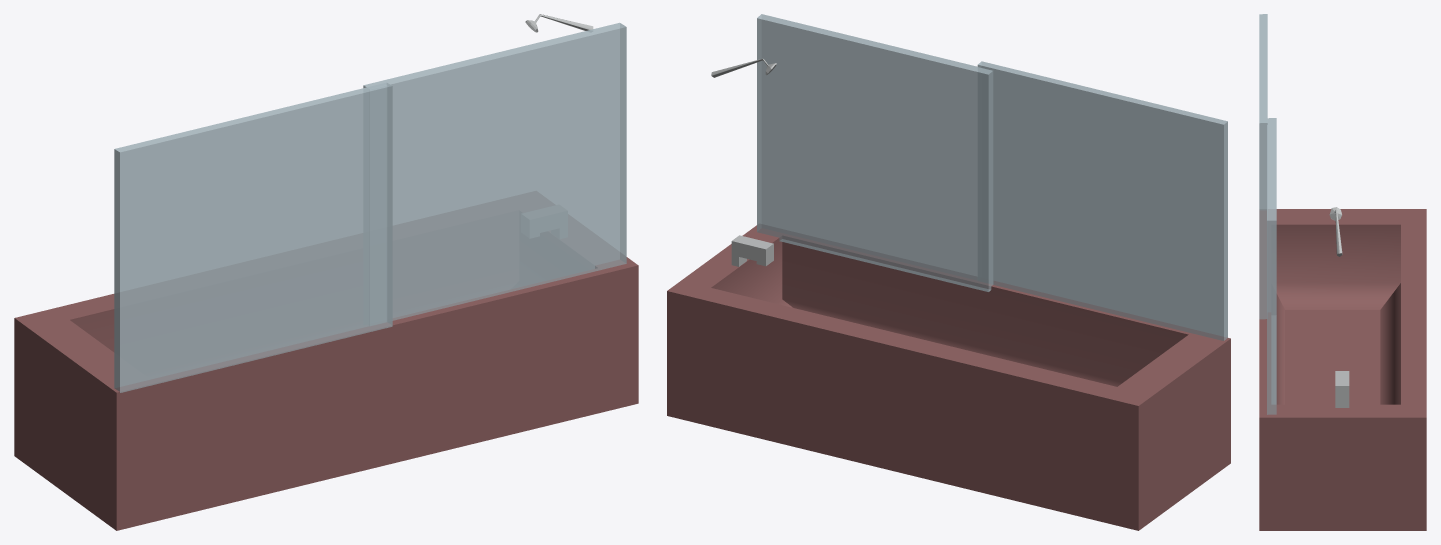
Rendered from ShowerTubColor2.fbx.
3 renders of one model, left to right at view 1: azimuth 30°, elevation 25°; view 2: azimuth 150°, elevation 25°; view 3: azimuth 270°, elevation 25°, orthographic. The views are drawn at different scales.
Parts seen in each view (by area): view 1: pCube27, pCube29, pasted__pCube29; view 2: pCube27, pCube29, pasted__pCube29, pCube30; view 3: pCube27, pasted__pCube29, pCube29, pCube30, pCube31.
Part boxes in pixels (<box>): pCube27: <box>14,257,638,530</box>; pCube29: <box>114,82,392,392</box>; pasted__pCube29: <box>363,22,626,325</box>; pCube27: <box>667,225,1230,530</box>; pCube29: <box>977,61,1227,340</box>; pasted__pCube29: <box>757,14,993,291</box>; pCube30: <box>731,235,773,266</box>; pCube27: <box>1259,209,1426,530</box>; pasted__pCube29: <box>1267,118,1276,414</box>; pCube29: <box>1259,14,1267,319</box>; pCube30: <box>1335,371,1349,407</box>; pCube31: <box>1329,207,1342,256</box>.
Bounding box in the file's own units: 2.97 × 2.04 × 1.
